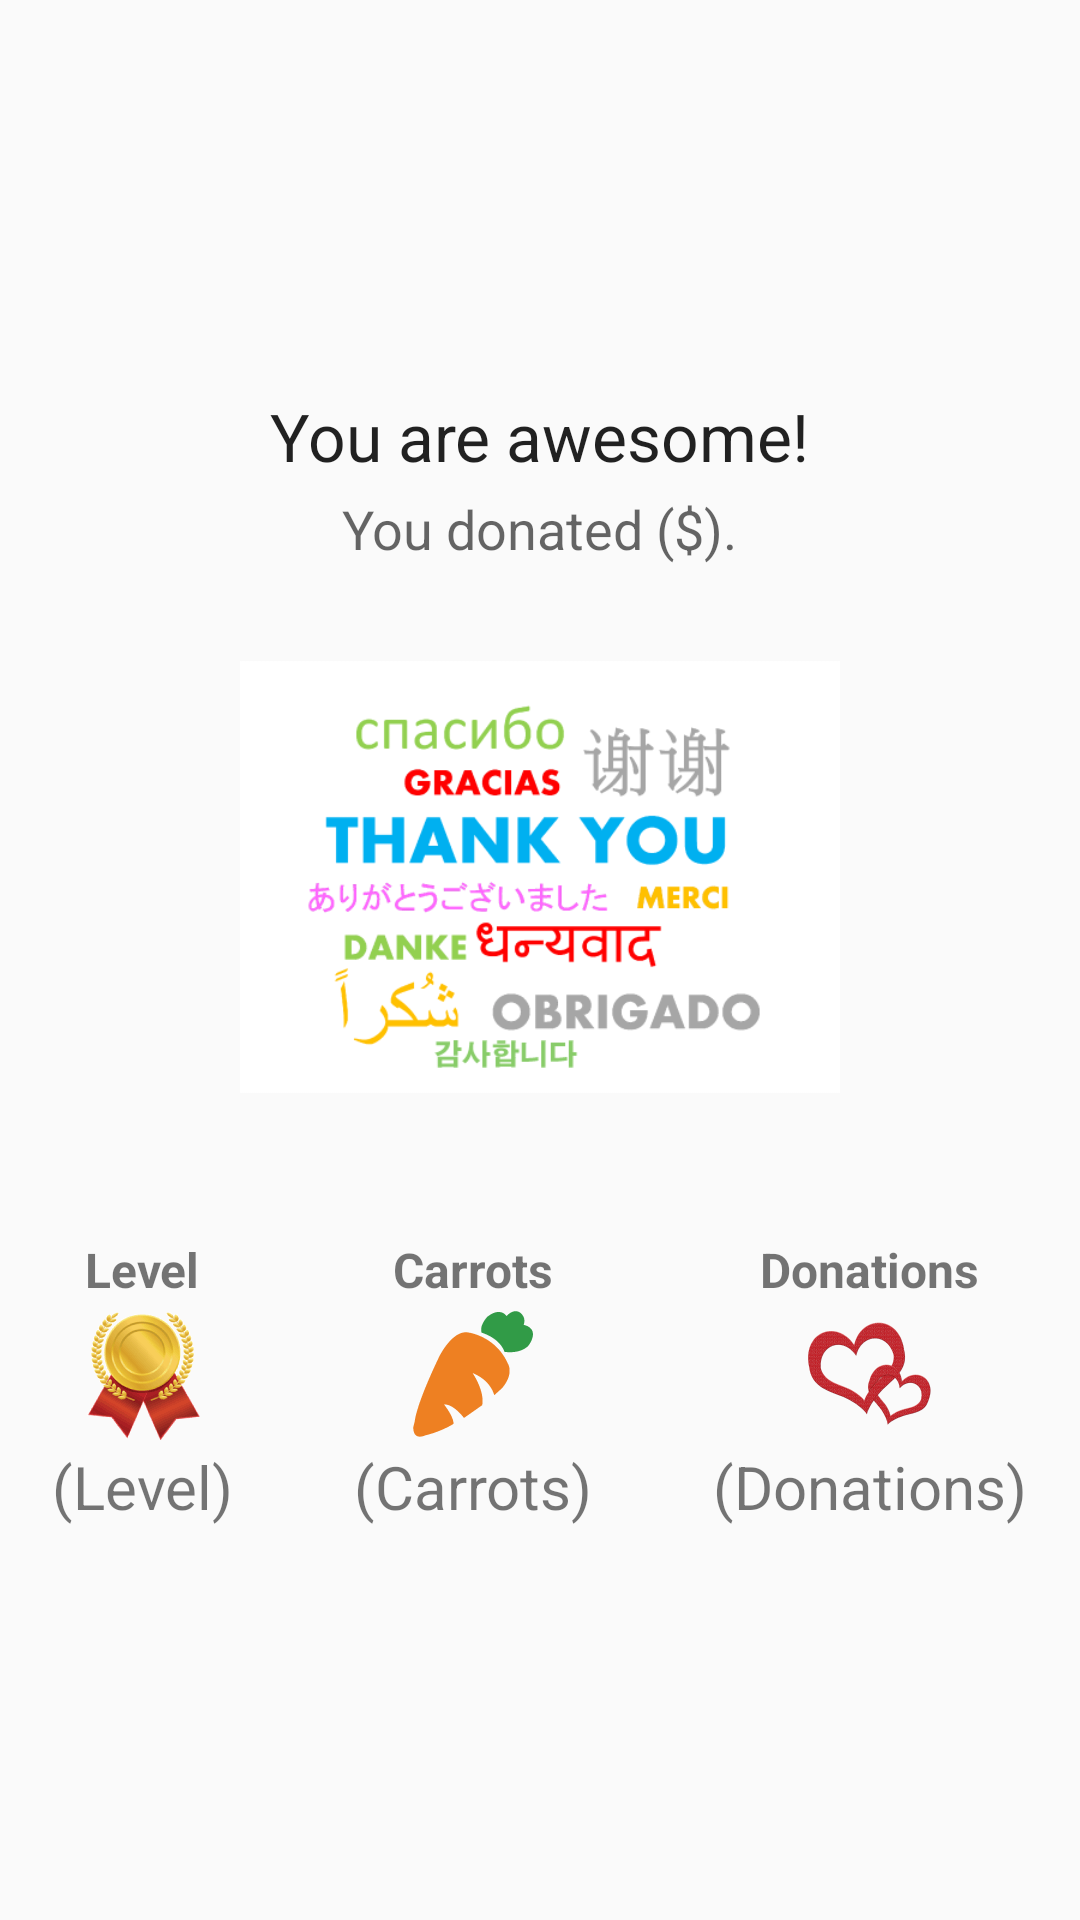

Named icons in this screenshot (1080px×1920px) and their centers, [x,y]:
rank: [144,1376]
